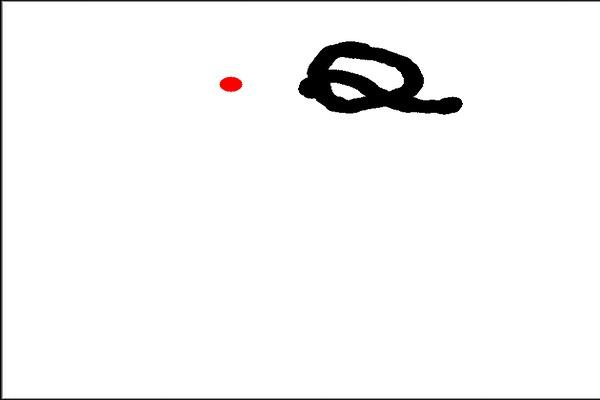Q: (290, 27, 471, 136)
